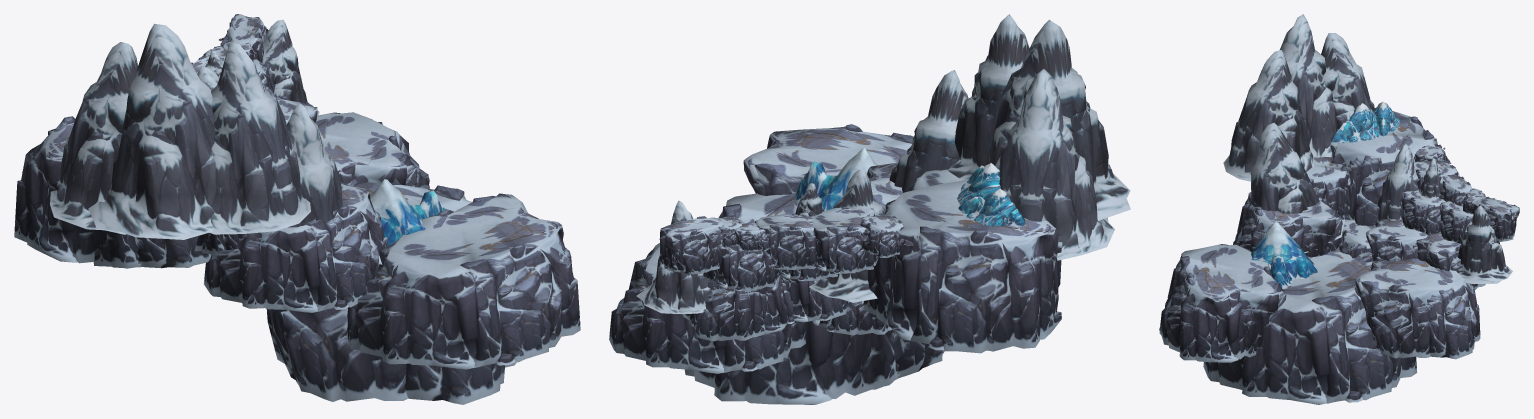
The model's file is yanshi14_1.fbx.
3 renders of one model, left to right at view 1: azimuth 30°, elevation 25°; view 2: azimuth 150°, elevation 25°; view 3: azimuth 270°, elevation 25°, orthographic. The views are drawn at different scales.
Visible parts, largest first — view 1: yanshi14_1; view 2: yanshi14_1; view 3: yanshi14_1.
Boxes of the visible parts, x1,y1,x2,y2 form: yanshi14_1: [14, 14, 580, 404]; yanshi14_1: [609, 14, 1130, 404]; yanshi14_1: [1159, 14, 1519, 404].
Bounding box in the file's own units: 5758 × 4960 × 5977.
